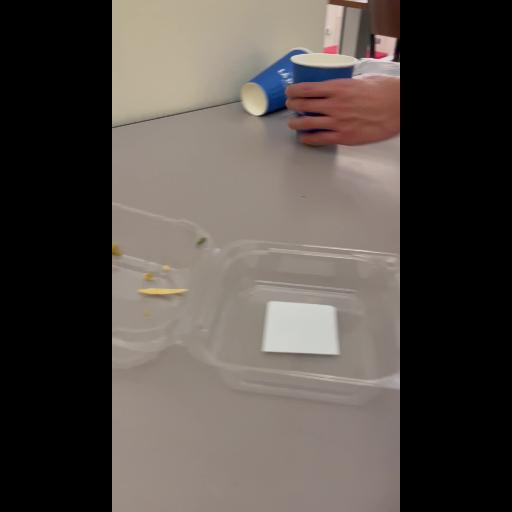lp_paper_cup: (289, 52, 355, 138), (240, 48, 312, 116)
small_plastic_container: (112, 200, 396, 404)
